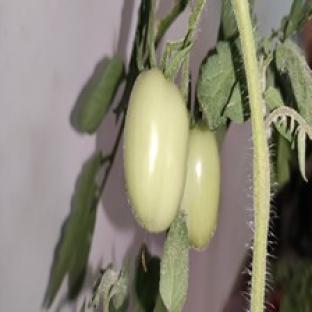Tomato: (124, 69, 189, 232), (182, 122, 220, 249)
